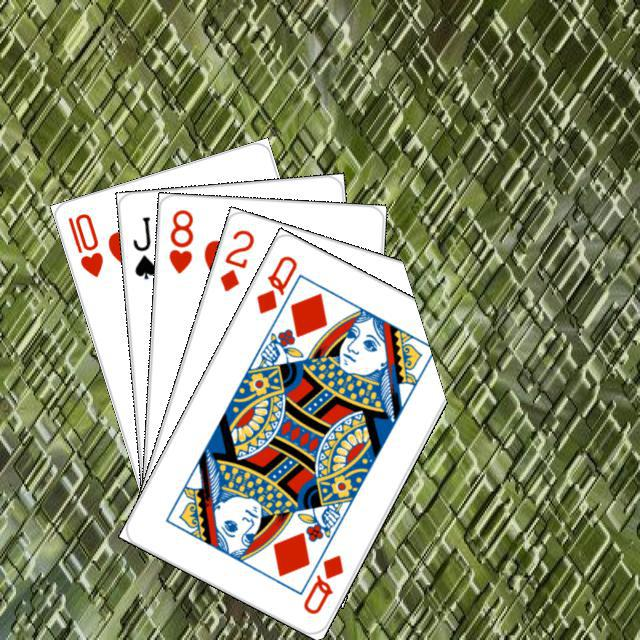10h: (62, 208, 105, 279)
2d: (214, 224, 256, 294)
8h: (164, 204, 195, 275)
Js: (128, 211, 158, 281)
Qd: (298, 549, 346, 616), (251, 250, 299, 316)
